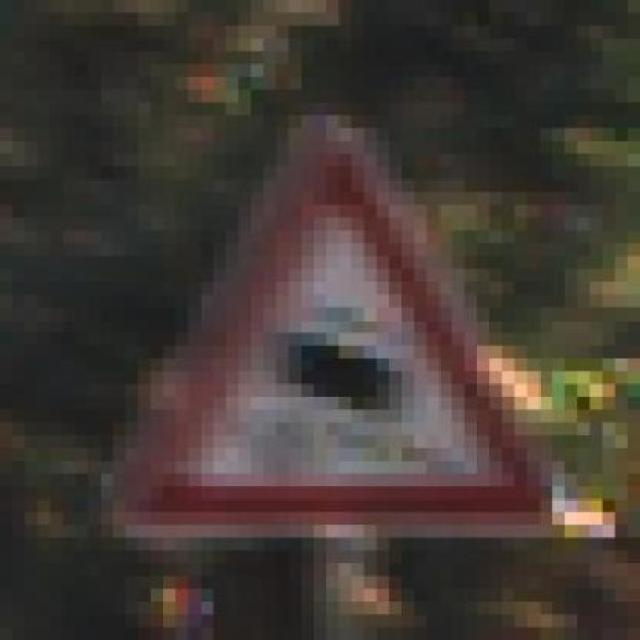Slippery Road Ahead: (100, 102, 565, 550)
